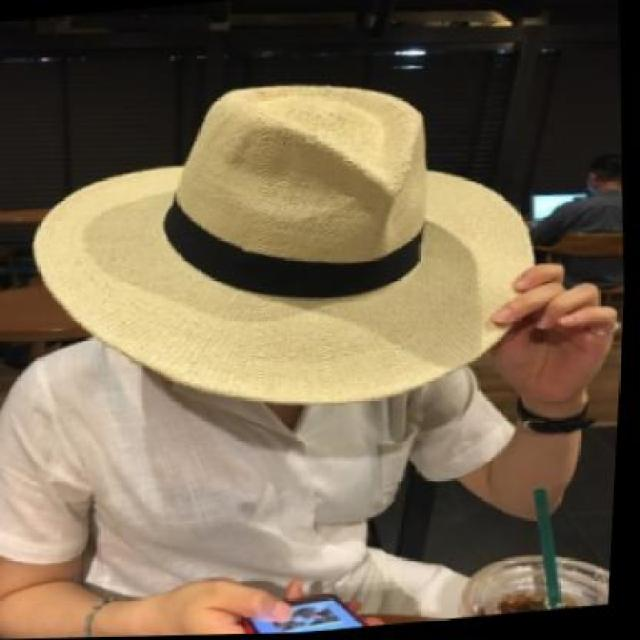hat: (23, 55, 560, 430)
